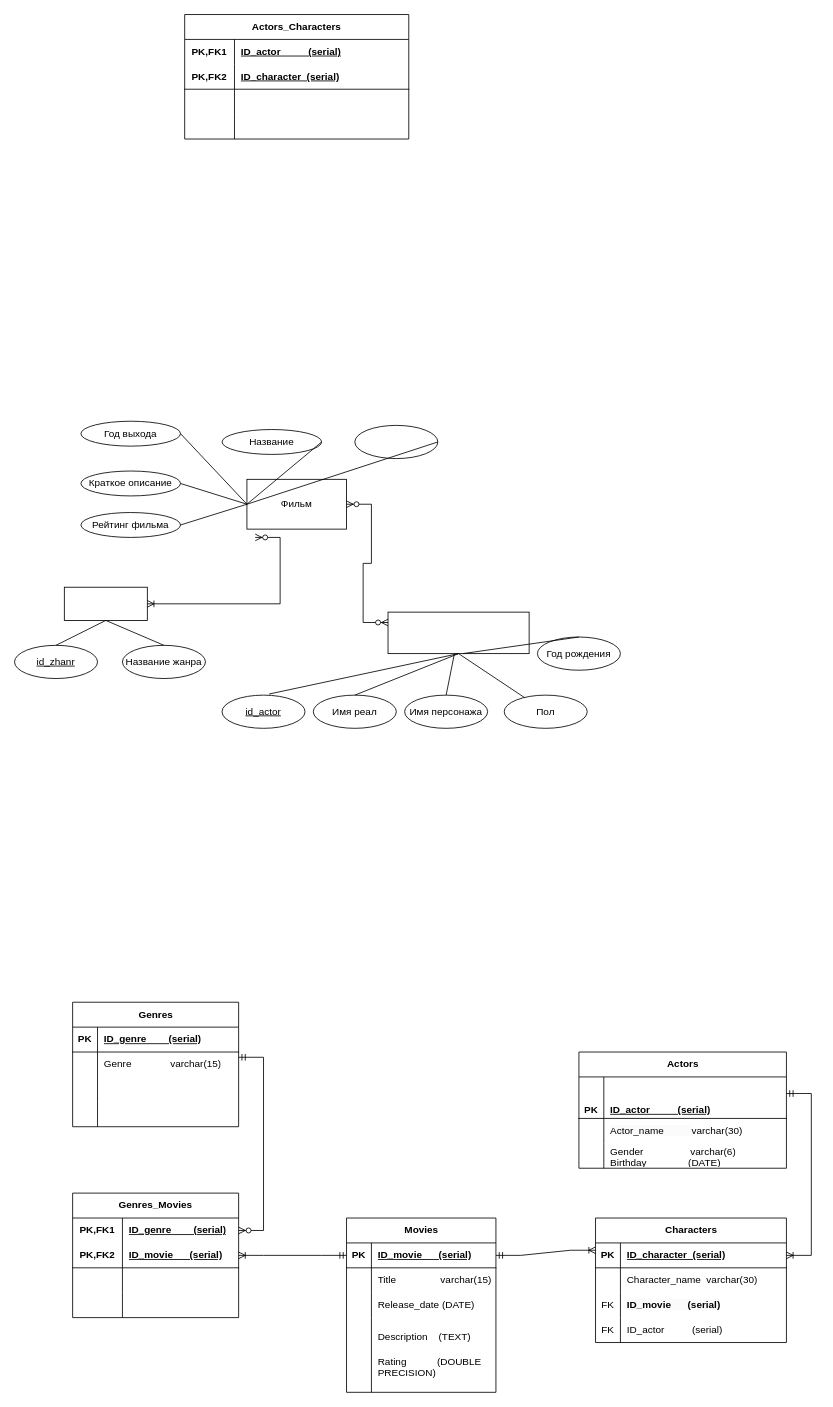
This 833x1407 diagram has some shape labels left out. The shapes that lost their labels are listed below. From the top down, each one's centre as x and y in pixels, then its label:
(396,442): id_film (PM)
(105,603): Жанр фильма
(458,632): Актер
